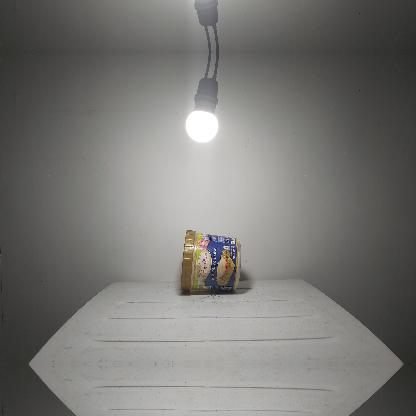Lady-s-Choice: (181, 230, 241, 292)
